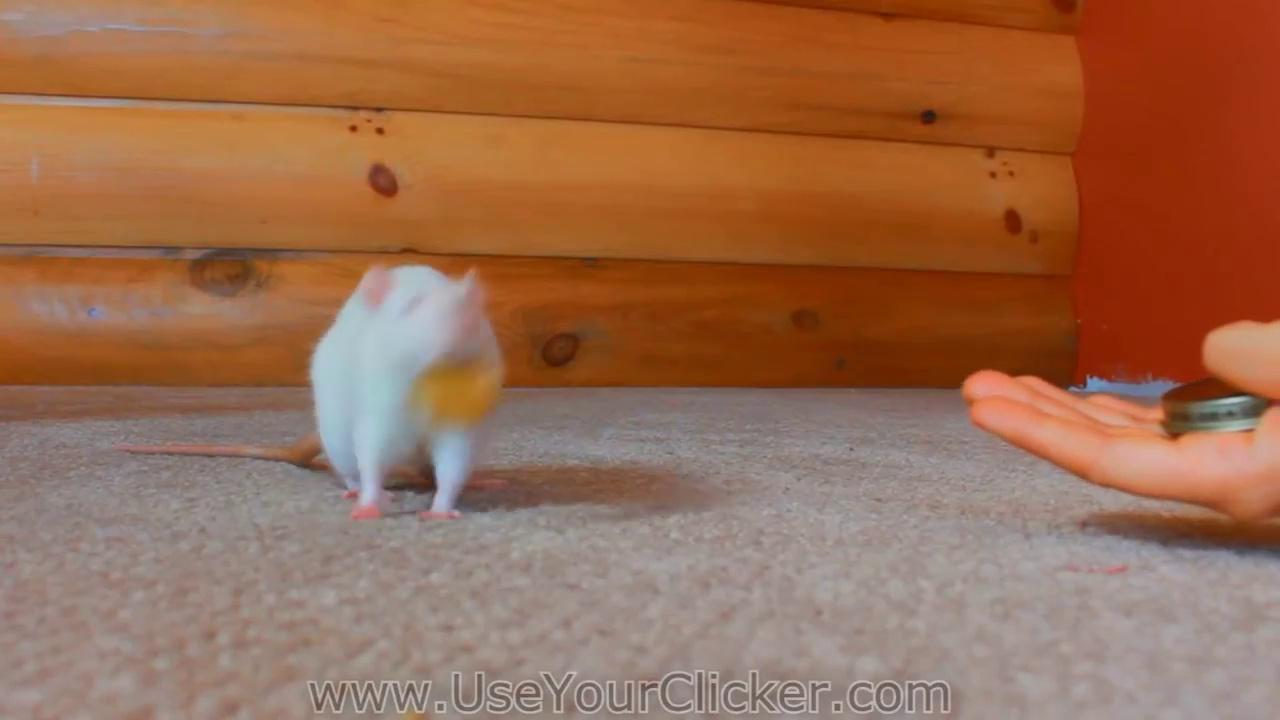rat: (110, 263, 504, 519)
